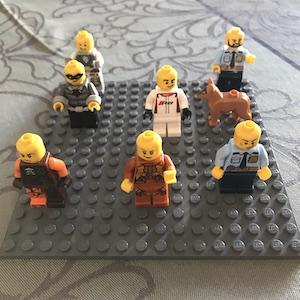Lego: (120, 132, 181, 209), (10, 130, 68, 209), (210, 123, 271, 195), (140, 62, 192, 139), (50, 59, 103, 129), (209, 26, 255, 92), (63, 29, 107, 95)
